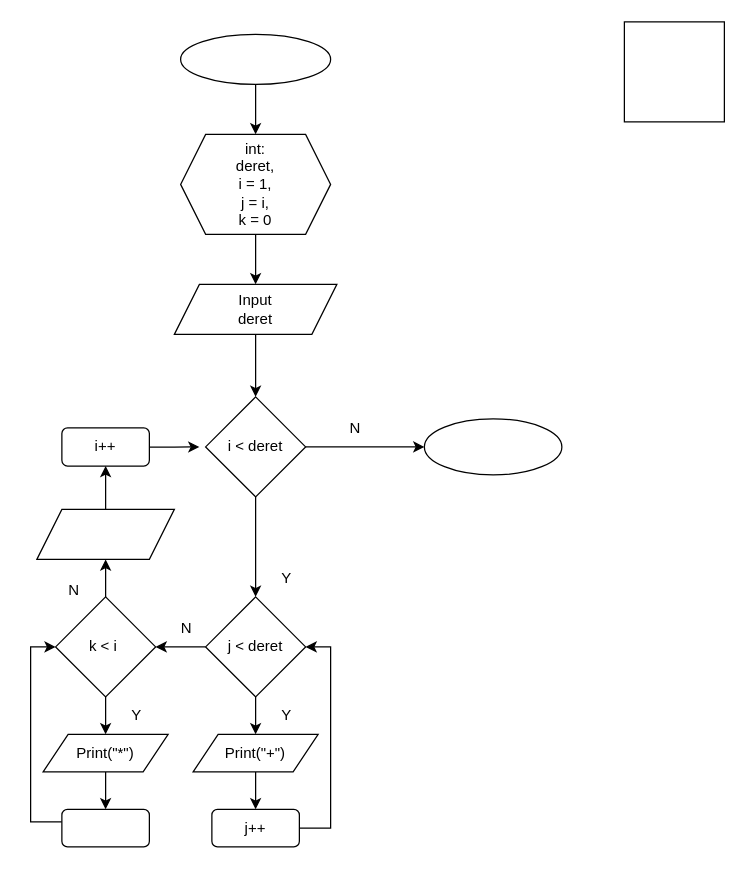
Some shapes in this 746 by 869 pixel diagram are drawn without their labels. Here are the shapes that lost their labels. From the top down, the centre of each, then its label:
the point at 255,58: Start
the point at 673,71: Output: +++* ++** +***
the point at 492,446: End
the point at 105,533: Print \n
the point at 105,827: k++
